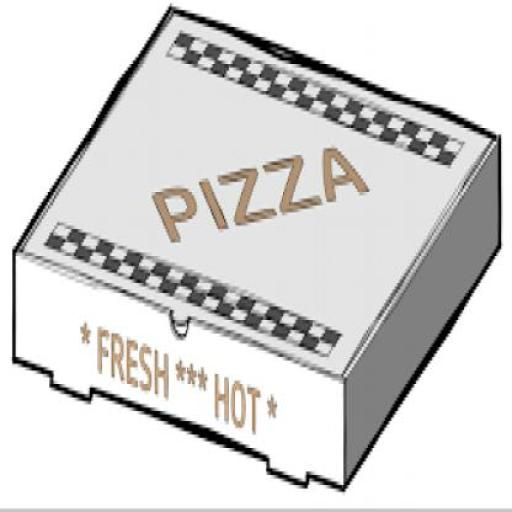cardboard: (11, 0, 500, 489)
